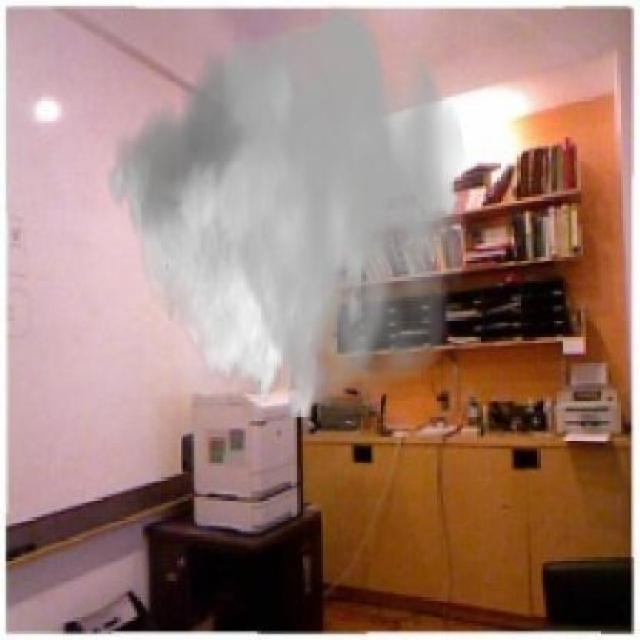smoke: (135, 34, 477, 400)
